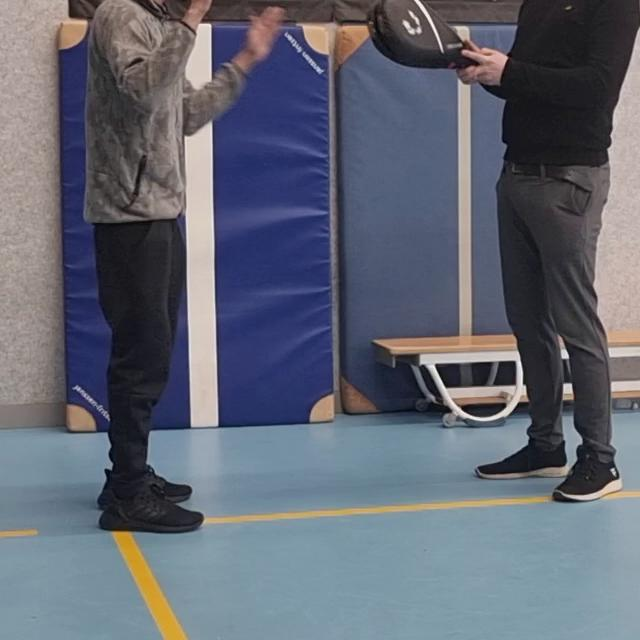paddle: (367, 0, 481, 72)
